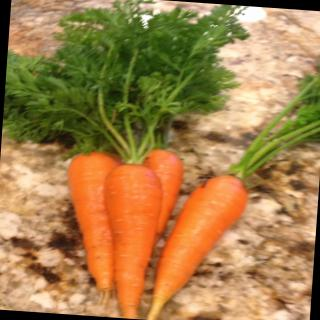Wortel: (1, 7, 310, 320)
